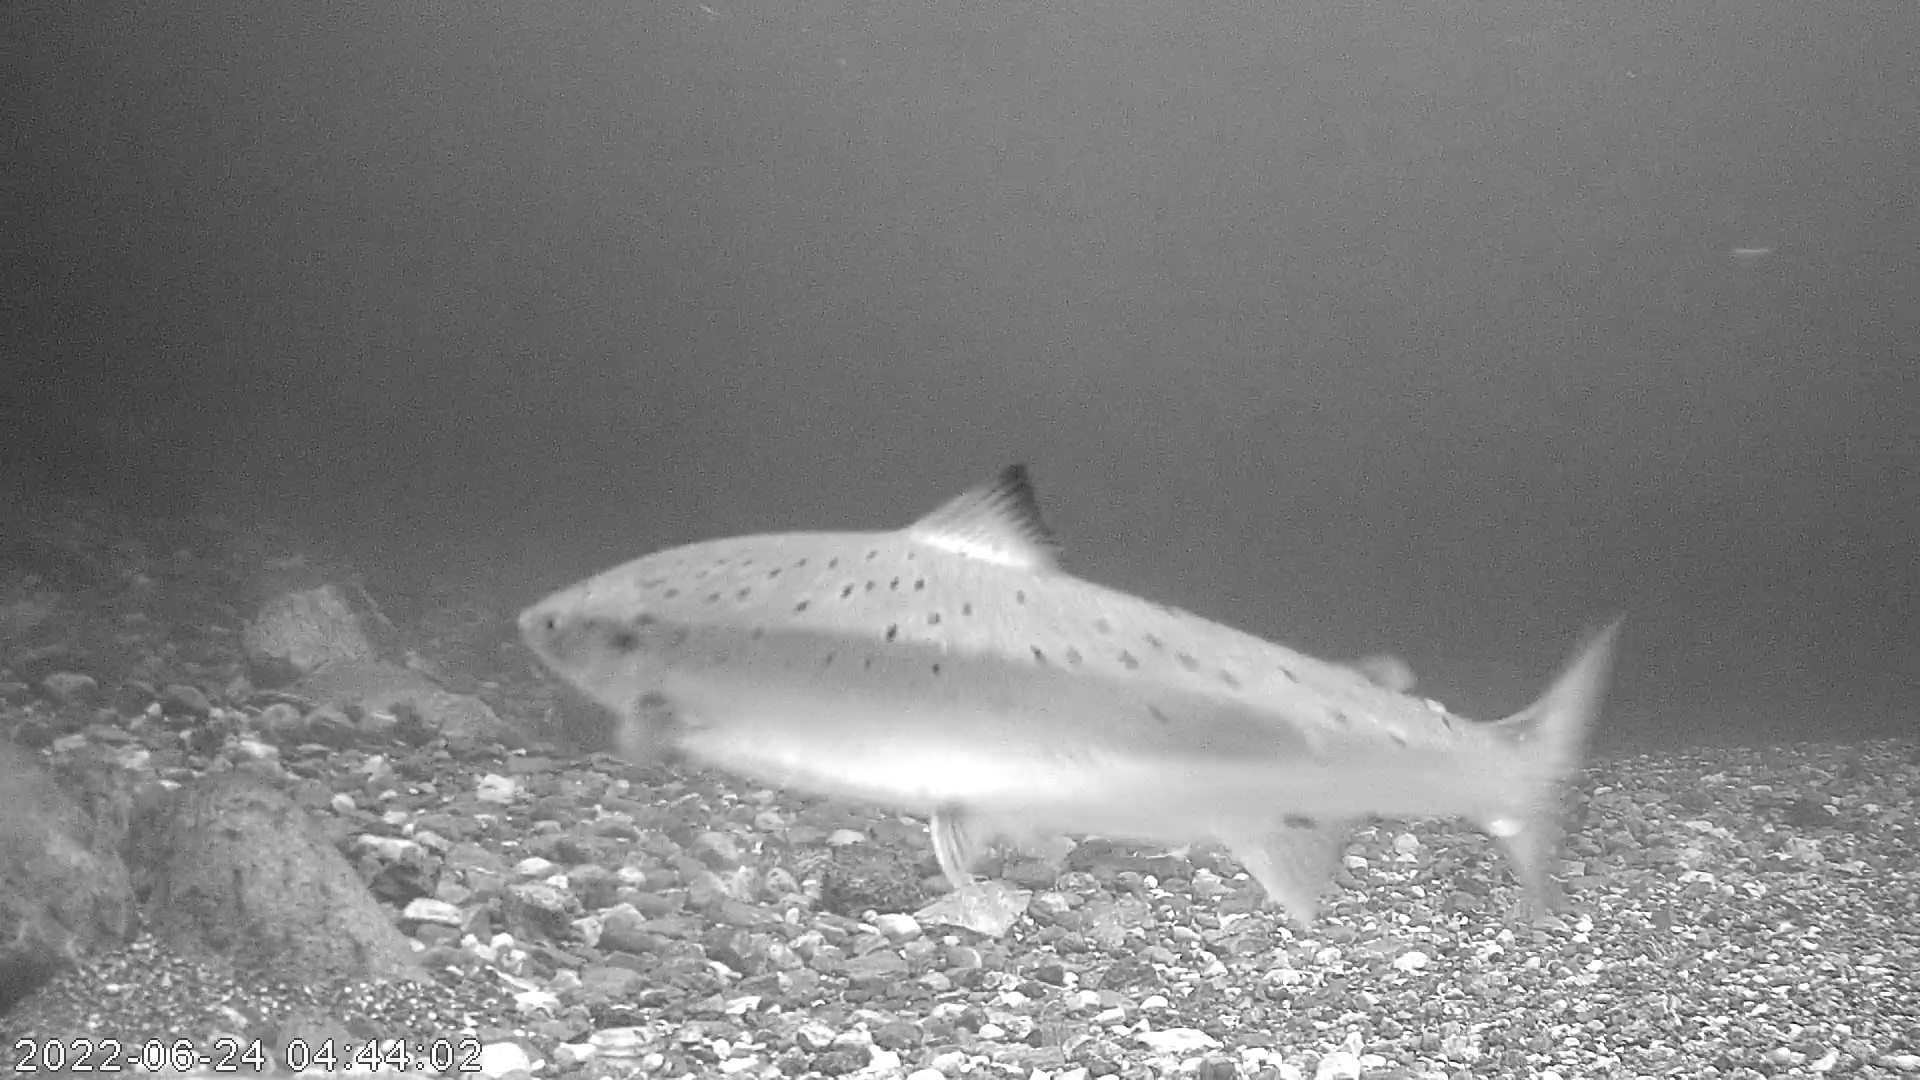salmon: (514, 459, 1630, 943)
